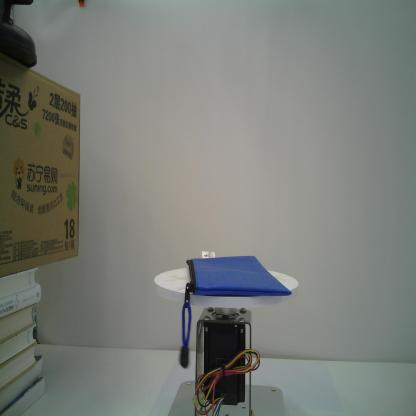Stationery: (180, 256, 292, 370)
